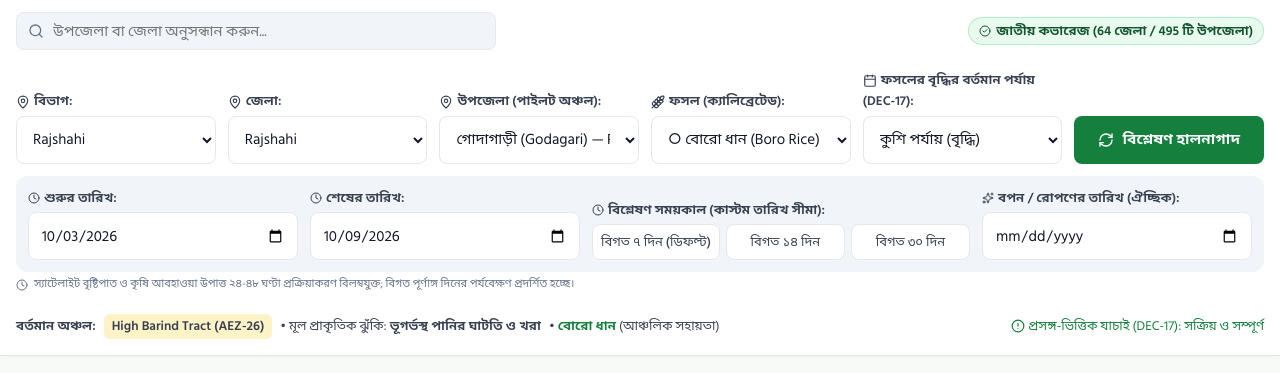
ContextSelector Component › searches upazilas using English and Bangla queries and displays autocomplete dropdown
# English search (case-insensitive)
Type "tahir" into the dropdown with placeholder "উপজেলা বা জেলা অনুসন্ধান করুন...". click: coordinates (256, 31)
box: [16, 12, 496, 50]
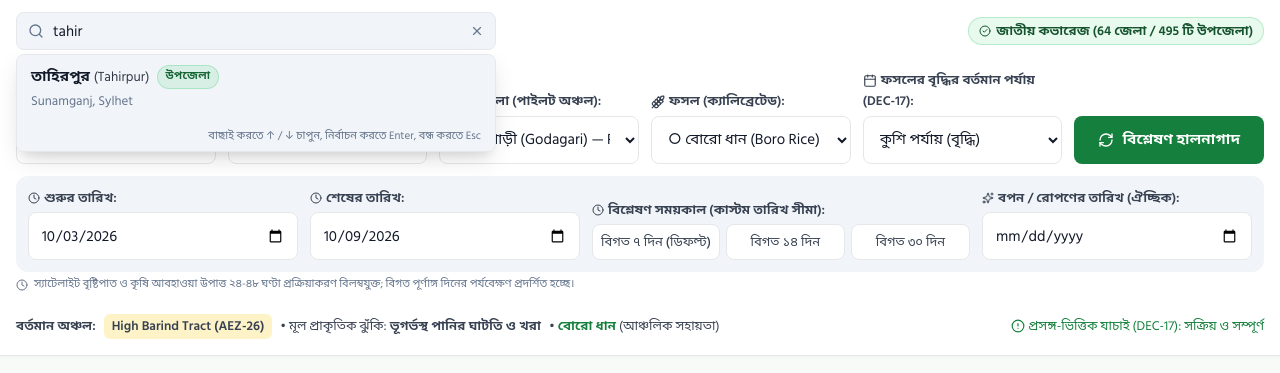
Result: the list is shown at [16, 54, 496, 152]
Result: the text "(Tahirpur)" is shown
# Select Tahirpur from dropdown
Click the text "(Tahirpur)". click: coordinates (122, 77)
box: [94, 66, 149, 88]
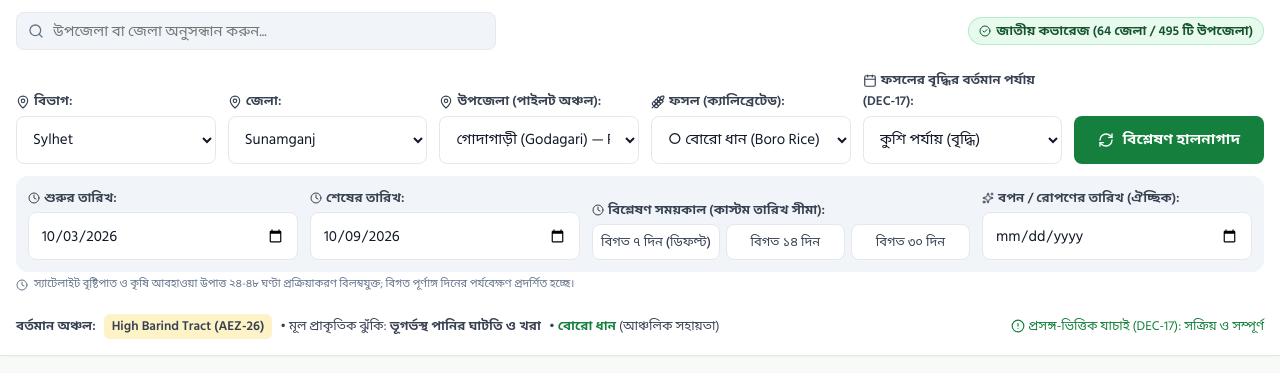
Result: the list is gone
# Bangla search
Type "গোদাগাড়ী" into the dropdown with placeholder "উপজেলা বা জেলা অনুসন্ধান করুন...". click: coordinates (256, 31)
box: [16, 12, 496, 50]
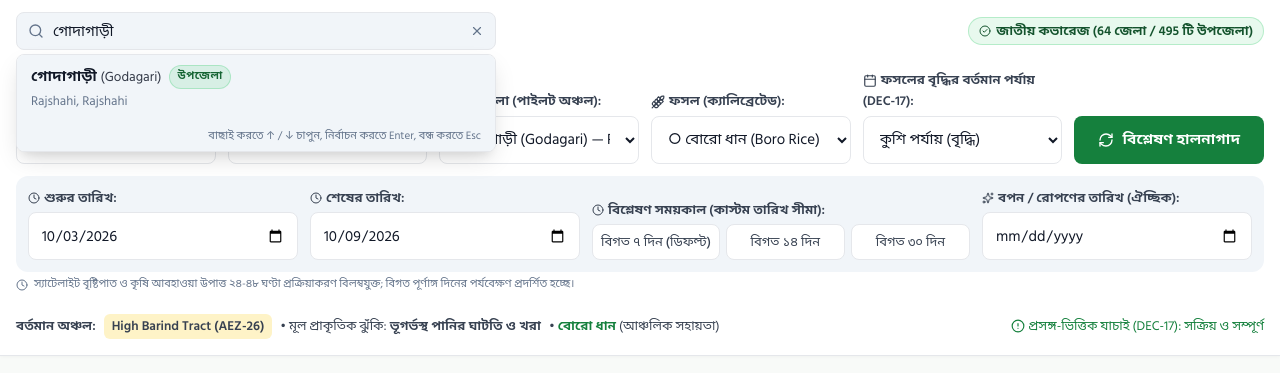
Result: the list is shown at [16, 54, 496, 152]
Result: the text "গোদাগাড়ী (Godagari)" is shown at [31, 65, 162, 89]
